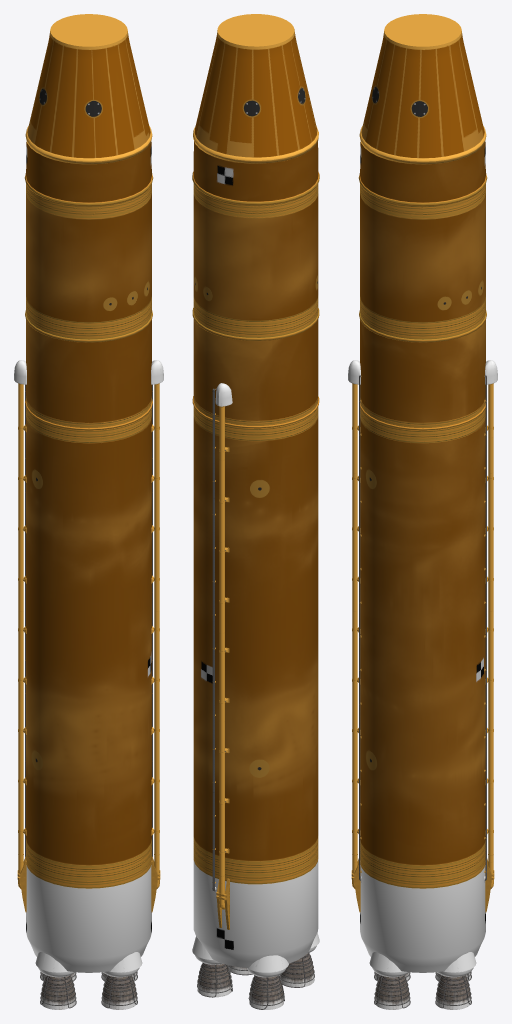
Rendered from Artemis_etapa_central.obj.
3 views of the same model, side by side, from view 1: azimuth 90°, elevation 25°; view 2: azimuth 150°, elevation 25°; view 3: azimuth 270°, elevation 25° (orthographic).
Parts seen in each view (by area): view 1: etapa_central; view 2: etapa_central; view 3: etapa_central.
Boxes of the visible parts, x1,y1,x2,y2 form: etapa_central: [14, 14, 163, 1009]; etapa_central: [192, 14, 319, 1009]; etapa_central: [348, 14, 497, 1009].
Size of the model in its own units: 3.58 by 29.55 by 4.18.
4 materials, 4 textured.
